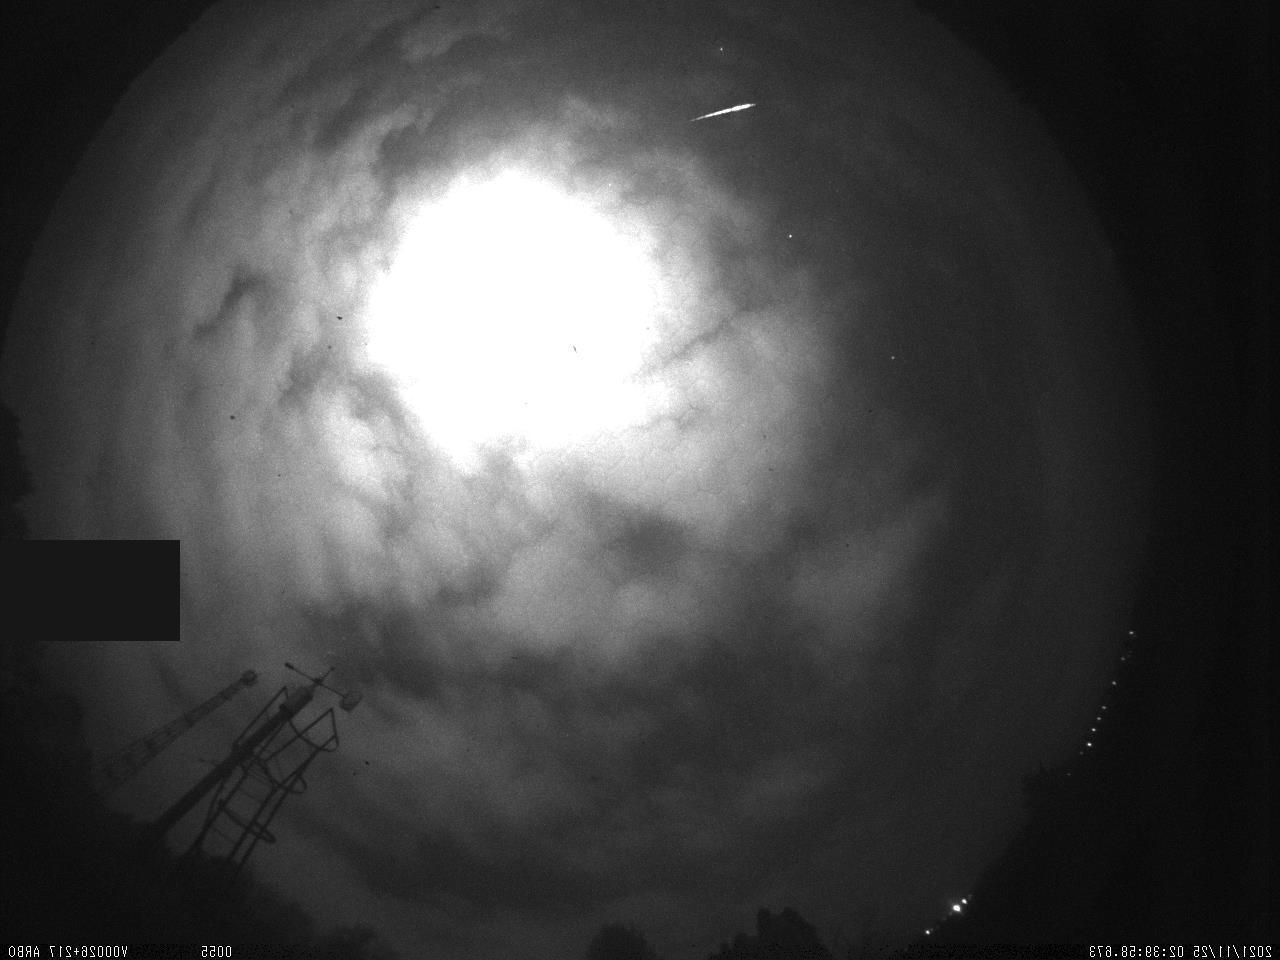meteor: (685, 100, 759, 125)
